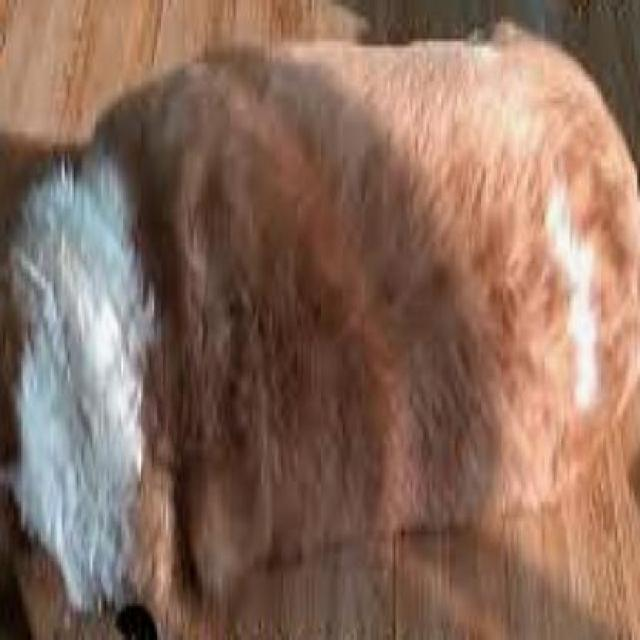Dog: (0, 16, 638, 638)
